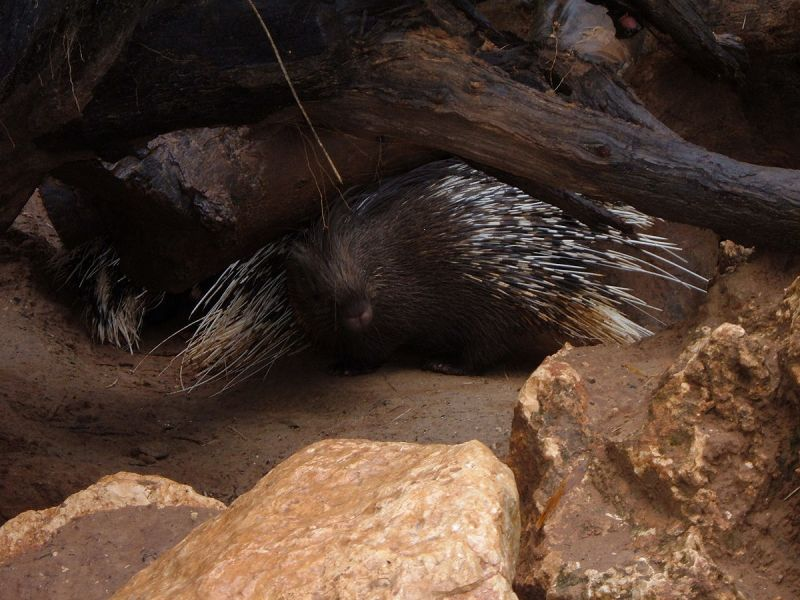porcupine: (175, 141, 708, 435)
